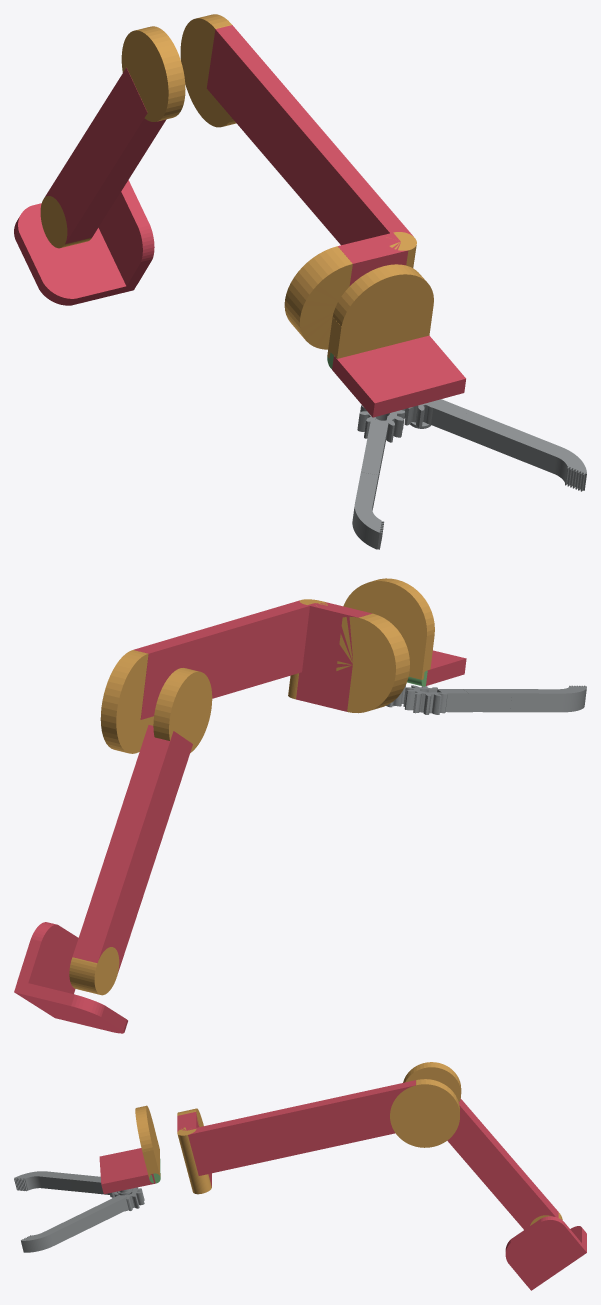
Rendered from arm.glb.
The picture shows the model from 3 angles, top to bottom: view 1: azimuth 30°, elevation 25°; view 2: azimuth 150°, elevation 25°; view 3: azimuth 270°, elevation 25°; orthographic projection. The views are drawn at different scales.
Visible parts, largest first — view 1: Mesh_Mesh_head_geo.001_lambert2SG.001; view 2: Mesh_Mesh_head_geo.001_lambert2SG.001; view 3: Mesh_Mesh_head_geo.001_lambert2SG.001.
Part boxes in pixels (x1,y1,x2,y2): Mesh_Mesh_head_geo.001_lambert2SG.001: [14, 14, 586, 549]; Mesh_Mesh_head_geo.001_lambert2SG.001: [14, 578, 586, 1033]; Mesh_Mesh_head_geo.001_lambert2SG.001: [14, 1062, 586, 1290].
Bounding box in the file's own units: 0.0869 × 0.123 × 0.3061.
